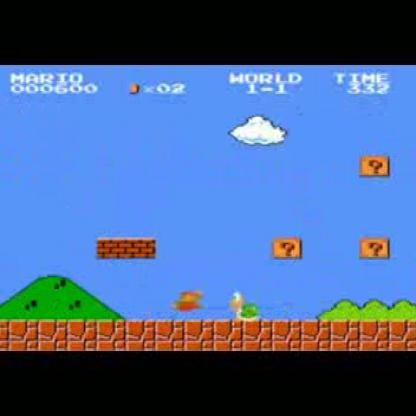Tortuga: (229, 288, 264, 322)
